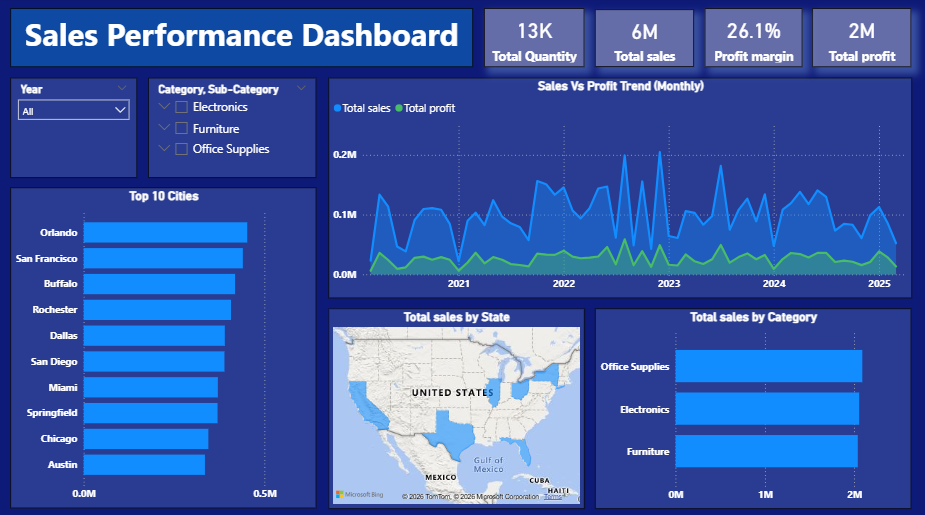

Layout of this report page (visuals, bound fields, positions):
{"tool":"powerbi","page":{"name":"Page 1","canvas":[1280,720],"ordinal":0},"visuals":[{"type":"card","fields":{"Values":["Sales Dataset.Total profit"]},"box":[1123.6,15.6,136.8,81.4],"z":0},{"type":"lineChart","title":"Sales Vs Profit Trend (Monthly) ","fields":{"Y":["Sales Dataset.Total sales","Sales Dataset.Total profit"],"Category":["Sales Dataset.Order Date.Variation.Date Hierarchy.Year","Sales Dataset.Order Date.Variation.Date Hierarchy.Month"]},"box":[455.3,110.8,805,304.7],"z":1000},{"type":"clusteredBarChart","fields":{"Category":["Sales Dataset.Category"],"Y":["Sales Dataset.Total sales"]},"box":[824.1,429.3,436.3,277],"z":2000},{"type":"filledMap","fields":{"Category":["Sales Dataset.State"]},"box":[455.3,429.3,353.2,277],"z":3000},{"type":"card","fields":{"Values":["Sales Dataset.Profit margin"]},"box":[974.7,15.6,135,81.4],"z":4000},{"type":"slicer","fields":{"Values":["Sales Dataset.Year"]},"box":[17.3,110.8,174.9,138.5],"z":5000},{"type":"slicer","fields":{"Values":["Sales Dataset.Category","Sales Dataset.Sub-Category"]},"box":[207.7,110.8,232,138.5],"z":6000},{"type":"clusteredBarChart","title":"Top 10 Cities","fields":{"Category":["Sales Dataset.City"],"Y":["Sales Dataset.Total sales"]},"box":[17.3,263.1,422.4,443.2],"z":7000},{"type":"textbox","box":[17.3,15.6,638.8,81.4],"z":8000},{"type":"card","fields":{"Values":["Sales Dataset.Total Quantity"]},"box":[670,15.6,138.5,81.4],"z":9000},{"type":"card","fields":{"Values":["Sales Dataset.Total sales"]},"box":[824.1,17.3,136.8,79.6],"z":10000}]}

Visuals, with their boxes in screenshot pixels (x1, y1, x2, y2), scaled from the page's 1280x720 canvas onto the 925x515 screenshot:
card - Sales Dataset.Total profit: 812, 11, 911, 69
"Sales Vs Profit Trend (Monthly) " lineChart: 329, 79, 911, 297
clusteredBarChart - Sales Dataset.Category x Sales Dataset.Total sales: 596, 307, 911, 505
filledMap - Sales Dataset.State: 329, 307, 584, 505
card - Sales Dataset.Profit margin: 704, 11, 802, 69
slicer - Sales Dataset.Year: 13, 79, 139, 178
slicer - Sales Dataset.Category x Sales Dataset.Sub-Category: 150, 79, 318, 178
"Top 10 Cities" clusteredBarChart: 13, 188, 318, 505
textbox: 13, 11, 474, 69
card - Sales Dataset.Total Quantity: 484, 11, 584, 69
card - Sales Dataset.Total sales: 596, 12, 694, 69
